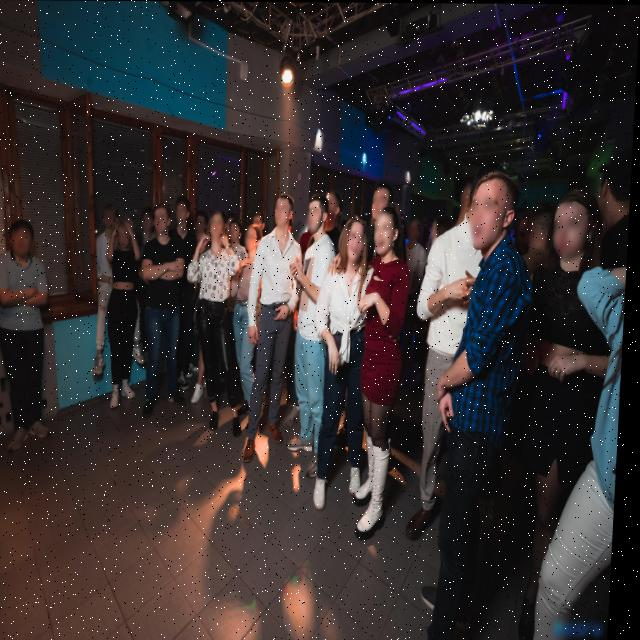Person: (411, 165, 537, 640), (510, 164, 620, 640), (347, 201, 422, 545), (313, 212, 379, 515), (244, 184, 310, 470), (0, 219, 69, 464), (285, 191, 339, 473), (102, 216, 154, 420), (204, 211, 245, 442), (139, 205, 181, 420), (225, 225, 264, 450), (91, 194, 131, 384), (132, 197, 161, 365), (367, 179, 398, 247), (451, 166, 476, 241), (172, 191, 199, 253), (404, 207, 431, 269), (325, 184, 353, 240), (428, 204, 450, 260), (194, 203, 212, 256), (228, 214, 250, 254)
